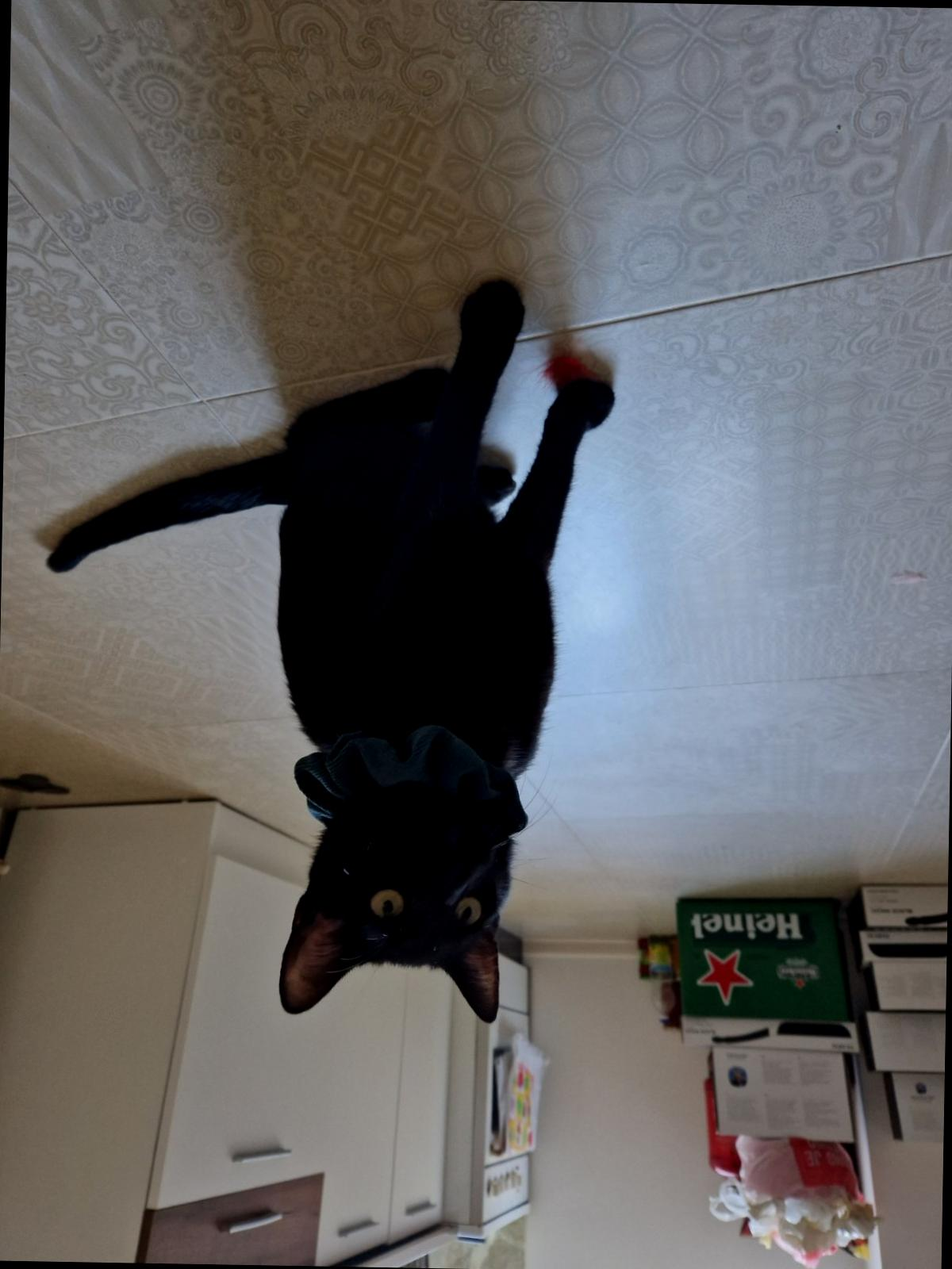macka: (32, 266, 617, 1035)
